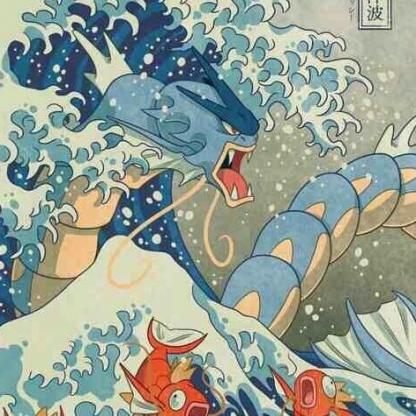Gyarados: (1, 52, 416, 321)
